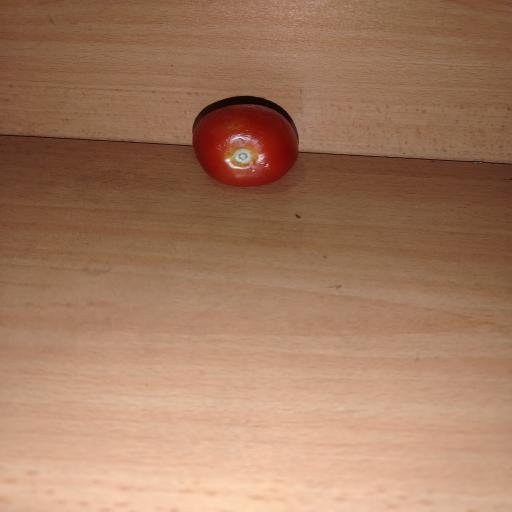spoiled: (193, 104, 298, 187)
